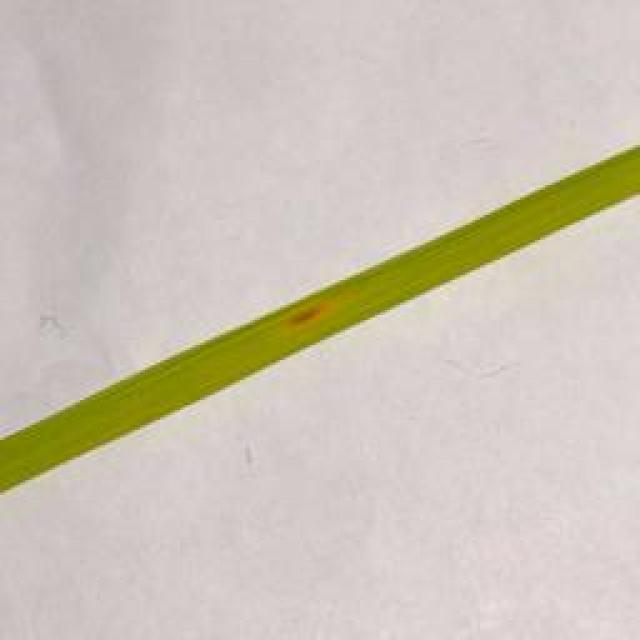Brown_Spot: (268, 295, 336, 339)
